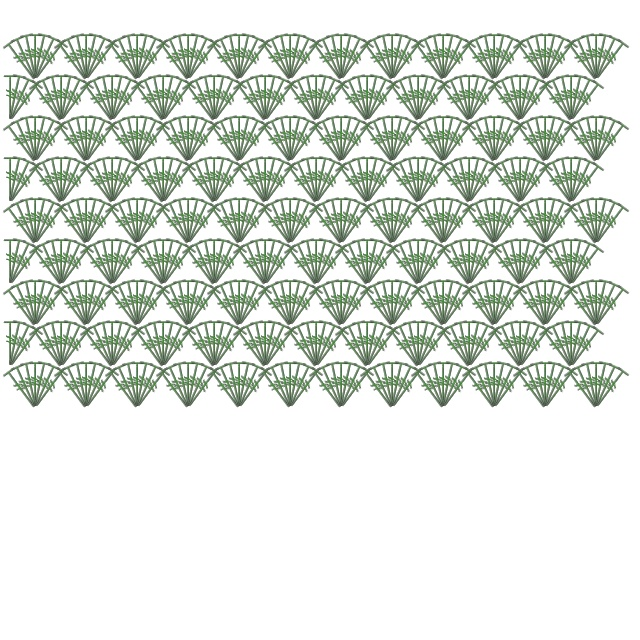fan: (2, 37, 43, 84), (29, 37, 70, 84), (53, 37, 94, 84), (80, 37, 121, 84), (104, 37, 145, 84), (131, 37, 172, 84), (155, 37, 196, 84), (182, 37, 223, 84), (206, 37, 247, 84), (233, 37, 274, 84), (257, 37, 298, 84), (284, 37, 325, 84), (308, 37, 349, 84), (335, 37, 376, 84), (359, 37, 400, 84), (386, 37, 427, 84), (410, 37, 451, 84), (437, 37, 478, 84), (461, 37, 502, 84), (488, 37, 529, 84), (512, 37, 553, 84), (539, 37, 580, 84), (563, 37, 604, 84), (590, 37, 631, 84), (4, 78, 45, 125), (28, 78, 69, 125), (55, 78, 96, 125), (79, 78, 120, 125), (106, 78, 147, 125), (130, 78, 171, 125), (157, 78, 198, 125), (181, 78, 222, 125), (208, 78, 249, 125), (232, 78, 273, 125), (259, 78, 300, 125), (283, 78, 324, 125), (310, 78, 351, 125), (334, 78, 375, 125), (361, 78, 402, 125), (385, 78, 426, 125), (412, 78, 453, 125), (436, 78, 477, 125), (463, 78, 504, 125), (487, 78, 528, 125), (514, 78, 555, 125), (538, 78, 579, 125), (565, 78, 606, 125), (2, 119, 43, 166), (29, 119, 70, 166), (53, 119, 94, 166), (80, 119, 121, 166), (104, 119, 145, 166), (131, 119, 172, 166), (155, 119, 196, 166), (182, 119, 223, 166), (206, 119, 247, 166), (233, 119, 274, 166), (257, 119, 298, 166), (284, 119, 325, 166), (308, 119, 349, 166), (335, 119, 376, 166), (359, 119, 400, 166), (386, 119, 427, 166), (410, 119, 451, 166), (437, 119, 478, 166), (461, 119, 502, 166), (488, 119, 529, 166), (512, 119, 553, 166), (539, 119, 580, 166), (563, 119, 604, 166), (590, 119, 631, 166), (4, 160, 45, 207), (28, 160, 69, 207), (55, 160, 96, 207), (79, 160, 120, 207), (106, 160, 147, 207), (130, 160, 171, 207), (157, 160, 198, 207), (181, 160, 222, 207), (208, 160, 249, 207), (232, 160, 273, 207), (259, 160, 300, 207), (283, 160, 324, 207), (310, 160, 351, 207), (334, 160, 375, 207), (361, 160, 402, 207), (385, 160, 426, 207), (412, 160, 453, 207), (436, 160, 477, 207), (463, 160, 504, 207), (487, 160, 528, 207), (514, 160, 555, 207), (538, 160, 579, 207), (565, 160, 606, 207), (2, 201, 43, 248), (29, 201, 70, 248), (53, 201, 94, 248), (80, 201, 121, 248), (104, 201, 145, 248), (131, 201, 172, 248), (155, 201, 196, 248), (182, 201, 223, 248), (206, 201, 247, 248), (233, 201, 274, 248), (257, 201, 298, 248), (284, 201, 325, 248), (308, 201, 349, 248), (335, 201, 376, 248), (359, 201, 400, 248), (386, 201, 427, 248), (410, 201, 451, 248), (437, 201, 478, 248), (461, 201, 502, 248), (488, 201, 529, 248), (512, 201, 553, 248), (539, 201, 580, 248), (563, 201, 604, 248), (590, 201, 631, 248), (4, 242, 45, 289), (28, 242, 69, 289), (55, 242, 96, 289), (79, 242, 120, 289), (106, 242, 147, 289), (130, 242, 171, 289), (157, 242, 198, 289), (181, 242, 222, 289), (208, 242, 249, 289), (232, 242, 273, 289), (259, 242, 300, 289), (283, 242, 324, 289), (310, 242, 351, 289), (334, 242, 375, 289), (361, 242, 402, 289), (385, 242, 426, 289), (412, 242, 453, 289), (436, 242, 477, 289), (463, 242, 504, 289), (487, 242, 528, 289), (514, 242, 555, 289), (538, 242, 579, 289), (565, 242, 606, 289), (2, 283, 43, 330), (29, 283, 70, 330), (53, 283, 94, 330), (80, 283, 121, 330), (104, 283, 145, 330), (131, 283, 172, 330), (155, 283, 196, 330), (182, 283, 223, 330), (206, 283, 247, 330), (233, 283, 274, 330), (257, 283, 298, 330), (284, 283, 325, 330), (308, 283, 349, 330), (335, 283, 376, 330), (359, 283, 400, 330), (386, 283, 427, 330), (410, 283, 451, 330), (437, 283, 478, 330), (461, 283, 502, 330), (488, 283, 529, 330), (512, 283, 553, 330), (539, 283, 580, 330), (563, 283, 604, 330), (590, 283, 631, 330), (4, 324, 45, 371), (28, 324, 69, 371), (55, 324, 96, 371), (79, 324, 120, 371), (106, 324, 147, 371), (130, 324, 171, 371), (157, 324, 198, 371), (181, 324, 222, 371), (208, 324, 249, 371), (232, 324, 273, 371), (259, 324, 300, 371), (283, 324, 324, 371), (310, 324, 351, 371), (334, 324, 375, 371), (361, 324, 402, 371), (385, 324, 426, 371), (412, 324, 453, 371), (436, 324, 477, 371), (463, 324, 504, 371), (487, 324, 528, 371), (514, 324, 555, 371), (538, 324, 579, 371), (565, 324, 606, 371), (2, 365, 43, 412), (29, 365, 70, 412), (53, 365, 94, 412), (80, 365, 121, 412), (104, 365, 145, 412), (131, 365, 172, 412), (155, 365, 196, 412), (182, 365, 223, 412), (206, 365, 247, 412), (233, 365, 274, 412), (257, 365, 298, 412), (284, 365, 325, 412), (308, 365, 349, 412), (335, 365, 376, 412), (359, 365, 400, 412), (386, 365, 427, 412), (410, 365, 451, 412), (437, 365, 478, 412), (461, 365, 502, 412), (488, 365, 529, 412), (512, 365, 553, 412), (539, 365, 580, 412), (563, 365, 604, 412), (590, 365, 631, 412), (9, 34, 44, 83), (28, 34, 63, 83), (60, 34, 95, 83), (79, 34, 114, 83), (111, 34, 146, 83), (130, 34, 165, 83), (162, 34, 197, 83), (181, 34, 216, 83), (213, 34, 248, 83), (232, 34, 267, 83), (264, 34, 299, 83), (283, 34, 318, 83), (315, 34, 350, 83), (334, 34, 369, 83), (366, 34, 401, 83), (385, 34, 420, 83), (417, 34, 452, 83), (436, 34, 471, 83), (468, 34, 503, 83), (487, 34, 522, 83), (519, 34, 554, 83), (538, 34, 573, 83), (570, 34, 605, 83), (589, 34, 624, 83), (3, 75, 38, 124), (35, 75, 70, 124), (54, 75, 89, 124), (86, 75, 121, 124), (105, 75, 140, 124), (137, 75, 172, 124), (156, 75, 191, 124), (188, 75, 223, 124), (207, 75, 242, 124), (239, 75, 274, 124), (258, 75, 293, 124), (290, 75, 325, 124), (309, 75, 344, 124), (341, 75, 376, 124), (360, 75, 395, 124), (392, 75, 427, 124), (411, 75, 446, 124), (443, 75, 478, 124), (462, 75, 497, 124), (494, 75, 529, 124), (513, 75, 548, 124), (545, 75, 580, 124), (564, 75, 599, 124), (9, 116, 44, 165), (28, 116, 63, 165), (60, 116, 95, 165), (79, 116, 114, 165), (111, 116, 146, 165), (130, 116, 165, 165), (162, 116, 197, 165), (181, 116, 216, 165), (213, 116, 248, 165), (232, 116, 267, 165), (264, 116, 299, 165), (283, 116, 318, 165), (315, 116, 350, 165), (334, 116, 369, 165), (366, 116, 401, 165), (385, 116, 420, 165), (417, 116, 452, 165), (436, 116, 471, 165), (468, 116, 503, 165), (487, 116, 522, 165), (519, 116, 554, 165), (538, 116, 573, 165), (570, 116, 605, 165), (589, 116, 624, 165), (3, 157, 38, 206), (35, 157, 70, 206), (54, 157, 89, 206), (86, 157, 121, 206), (105, 157, 140, 206), (137, 157, 172, 206), (156, 157, 191, 206), (188, 157, 223, 206), (207, 157, 242, 206), (239, 157, 274, 206), (258, 157, 293, 206), (290, 157, 325, 206), (309, 157, 344, 206), (341, 157, 376, 206), (360, 157, 395, 206), (392, 157, 427, 206), (411, 157, 446, 206), (443, 157, 478, 206), (462, 157, 497, 206), (494, 157, 529, 206), (513, 157, 548, 206), (545, 157, 580, 206), (564, 157, 599, 206), (9, 198, 44, 247), (28, 198, 63, 247), (60, 198, 95, 247), (79, 198, 114, 247), (111, 198, 146, 247), (130, 198, 165, 247), (162, 198, 197, 247), (181, 198, 216, 247), (213, 198, 248, 247), (232, 198, 267, 247), (264, 198, 299, 247), (283, 198, 318, 247), (315, 198, 350, 247), (334, 198, 369, 247), (366, 198, 401, 247), (385, 198, 420, 247), (417, 198, 452, 247), (436, 198, 471, 247), (468, 198, 503, 247), (487, 198, 522, 247), (519, 198, 554, 247), (538, 198, 573, 247), (570, 198, 605, 247), (589, 198, 624, 247), (3, 239, 38, 288), (35, 239, 70, 288), (54, 239, 89, 288), (86, 239, 121, 288), (105, 239, 140, 288), (137, 239, 172, 288), (156, 239, 191, 288), (188, 239, 223, 288), (207, 239, 242, 288), (239, 239, 274, 288), (258, 239, 293, 288), (290, 239, 325, 288), (309, 239, 344, 288), (341, 239, 376, 288), (360, 239, 395, 288), (392, 239, 427, 288), (411, 239, 446, 288), (443, 239, 478, 288), (462, 239, 497, 288), (494, 239, 529, 288), (513, 239, 548, 288), (545, 239, 580, 288), (564, 239, 599, 288), (9, 280, 44, 329), (28, 280, 63, 329), (60, 280, 95, 329), (79, 280, 114, 329), (111, 280, 146, 329), (130, 280, 165, 329), (162, 280, 197, 329), (181, 280, 216, 329), (213, 280, 248, 329), (232, 280, 267, 329), (264, 280, 299, 329), (283, 280, 318, 329), (315, 280, 350, 329), (334, 280, 369, 329), (366, 280, 401, 329), (385, 280, 420, 329), (417, 280, 452, 329), (436, 280, 471, 329), (468, 280, 503, 329), (487, 280, 522, 329), (519, 280, 554, 329), (538, 280, 573, 329), (570, 280, 605, 329), (589, 280, 624, 329), (3, 321, 38, 370), (35, 321, 70, 370), (54, 321, 89, 370), (86, 321, 121, 370), (105, 321, 140, 370), (137, 321, 172, 370), (156, 321, 191, 370), (188, 321, 223, 370), (207, 321, 242, 370), (239, 321, 274, 370), (258, 321, 293, 370), (290, 321, 325, 370), (309, 321, 344, 370), (341, 321, 376, 370), (360, 321, 395, 370), (392, 321, 427, 370), (411, 321, 446, 370), (443, 321, 478, 370), (462, 321, 497, 370), (494, 321, 529, 370), (513, 321, 548, 370), (545, 321, 580, 370), (564, 321, 599, 370), (9, 362, 44, 411), (28, 362, 63, 411), (60, 362, 95, 411), (79, 362, 114, 411), (111, 362, 146, 411), (130, 362, 165, 411), (162, 362, 197, 411), (181, 362, 216, 411), (213, 362, 248, 411), (232, 362, 267, 411), (264, 362, 299, 411), (283, 362, 318, 411), (315, 362, 350, 411), (334, 362, 369, 411), (366, 362, 401, 411), (385, 362, 420, 411), (417, 362, 452, 411), (436, 362, 471, 411), (468, 362, 503, 411), (487, 362, 522, 411), (519, 362, 554, 411), (538, 362, 573, 411), (570, 362, 605, 411), (589, 362, 624, 411), (18, 32, 44, 81), (28, 32, 54, 81), (69, 32, 95, 81), (79, 32, 105, 81), (120, 32, 146, 81), (130, 32, 156, 81), (171, 32, 197, 81), (181, 32, 207, 81), (222, 32, 248, 81), (232, 32, 258, 81), (273, 32, 299, 81), (283, 32, 309, 81), (324, 32, 350, 81), (334, 32, 360, 81), (375, 32, 401, 81), (385, 32, 411, 81), (426, 32, 452, 81), (436, 32, 462, 81), (477, 32, 503, 81), (487, 32, 513, 81), (528, 32, 554, 81), (538, 32, 564, 81), (579, 32, 605, 81), (589, 32, 615, 81), (3, 73, 29, 122), (44, 73, 70, 122), (54, 73, 80, 122), (95, 73, 121, 122), (105, 73, 131, 122), (146, 73, 172, 122), (156, 73, 182, 122), (197, 73, 223, 122), (207, 73, 233, 122), (248, 73, 274, 122), (258, 73, 284, 122), (299, 73, 325, 122), (309, 73, 335, 122), (350, 73, 376, 122), (360, 73, 386, 122), (401, 73, 427, 122), (411, 73, 437, 122), (452, 73, 478, 122), (462, 73, 488, 122), (503, 73, 529, 122), (513, 73, 539, 122), (554, 73, 580, 122), (564, 73, 590, 122), (18, 114, 44, 163), (28, 114, 54, 163), (69, 114, 95, 163), (79, 114, 105, 163), (120, 114, 146, 163), (130, 114, 156, 163), (171, 114, 197, 163), (181, 114, 207, 163), (222, 114, 248, 163), (232, 114, 258, 163), (273, 114, 299, 163), (283, 114, 309, 163), (324, 114, 350, 163), (334, 114, 360, 163), (375, 114, 401, 163), (385, 114, 411, 163), (426, 114, 452, 163), (436, 114, 462, 163), (477, 114, 503, 163), (487, 114, 513, 163), (528, 114, 554, 163), (538, 114, 564, 163), (579, 114, 605, 163), (589, 114, 615, 163), (3, 155, 29, 204), (44, 155, 70, 204), (54, 155, 80, 204), (95, 155, 121, 204), (105, 155, 131, 204), (146, 155, 172, 204), (156, 155, 182, 204), (197, 155, 223, 204), (207, 155, 233, 204), (248, 155, 274, 204), (258, 155, 284, 204), (299, 155, 325, 204), (309, 155, 335, 204), (350, 155, 376, 204), (360, 155, 386, 204), (401, 155, 427, 204), (411, 155, 437, 204), (452, 155, 478, 204), (462, 155, 488, 204), (503, 155, 529, 204), (513, 155, 539, 204), (554, 155, 580, 204), (564, 155, 590, 204), (18, 196, 44, 245), (28, 196, 54, 245), (69, 196, 95, 245), (79, 196, 105, 245), (120, 196, 146, 245), (130, 196, 156, 245), (171, 196, 197, 245), (181, 196, 207, 245), (222, 196, 248, 245), (232, 196, 258, 245), (273, 196, 299, 245), (283, 196, 309, 245), (324, 196, 350, 245), (334, 196, 360, 245), (375, 196, 401, 245), (385, 196, 411, 245), (426, 196, 452, 245), (436, 196, 462, 245), (477, 196, 503, 245), (487, 196, 513, 245), (528, 196, 554, 245), (538, 196, 564, 245), (579, 196, 605, 245), (589, 196, 615, 245), (3, 237, 29, 286), (44, 237, 70, 286), (54, 237, 80, 286), (95, 237, 121, 286), (105, 237, 131, 286), (146, 237, 172, 286), (156, 237, 182, 286), (197, 237, 223, 286), (207, 237, 233, 286), (248, 237, 274, 286), (258, 237, 284, 286), (299, 237, 325, 286), (309, 237, 335, 286), (350, 237, 376, 286), (360, 237, 386, 286), (401, 237, 427, 286), (411, 237, 437, 286), (452, 237, 478, 286), (462, 237, 488, 286), (503, 237, 529, 286), (513, 237, 539, 286), (554, 237, 580, 286), (564, 237, 590, 286), (18, 278, 44, 327), (28, 278, 54, 327), (69, 278, 95, 327), (79, 278, 105, 327), (120, 278, 146, 327), (130, 278, 156, 327), (171, 278, 197, 327), (181, 278, 207, 327), (222, 278, 248, 327), (232, 278, 258, 327), (273, 278, 299, 327), (283, 278, 309, 327), (324, 278, 350, 327), (334, 278, 360, 327), (375, 278, 401, 327), (385, 278, 411, 327), (426, 278, 452, 327), (436, 278, 462, 327), (477, 278, 503, 327), (487, 278, 513, 327), (528, 278, 554, 327), (538, 278, 564, 327), (579, 278, 605, 327), (589, 278, 615, 327), (3, 319, 29, 368), (44, 319, 70, 368), (54, 319, 80, 368), (95, 319, 121, 368), (105, 319, 131, 368), (146, 319, 172, 368), (156, 319, 182, 368), (197, 319, 223, 368), (207, 319, 233, 368), (248, 319, 274, 368), (258, 319, 284, 368), (299, 319, 325, 368), (309, 319, 335, 368), (350, 319, 376, 368), (360, 319, 386, 368), (401, 319, 427, 368), (411, 319, 437, 368), (452, 319, 478, 368), (462, 319, 488, 368), (503, 319, 529, 368), (513, 319, 539, 368), (554, 319, 580, 368), (564, 319, 590, 368), (18, 360, 44, 409), (28, 360, 54, 409), (69, 360, 95, 409), (79, 360, 105, 409), (120, 360, 146, 409), (130, 360, 156, 409), (171, 360, 197, 409), (181, 360, 207, 409), (222, 360, 248, 409), (232, 360, 258, 409), (273, 360, 299, 409), (283, 360, 309, 409), (324, 360, 350, 409), (334, 360, 360, 409), (375, 360, 401, 409), (385, 360, 411, 409), (426, 360, 452, 409), (436, 360, 462, 409), (477, 360, 503, 409), (487, 360, 513, 409), (528, 360, 554, 409), (538, 360, 564, 409), (579, 360, 605, 409), (589, 360, 615, 409), (78, 33, 96, 79), (180, 33, 198, 79), (282, 33, 300, 79), (384, 33, 402, 79), (486, 33, 504, 79), (588, 33, 606, 79), (2, 74, 20, 120), (104, 74, 122, 120), (206, 74, 224, 120), (308, 74, 326, 120), (410, 74, 428, 120), (512, 74, 530, 120), (78, 115, 96, 161), (180, 115, 198, 161), (282, 115, 300, 161), (384, 115, 402, 161), (486, 115, 504, 161), (588, 115, 606, 161), (2, 156, 20, 202), (104, 156, 122, 202), (206, 156, 224, 202), (308, 156, 326, 202), (410, 156, 428, 202), (512, 156, 530, 202), (78, 197, 96, 243), (180, 197, 198, 243), (282, 197, 300, 243), (384, 197, 402, 243), (486, 197, 504, 243), (588, 197, 606, 243), (2, 238, 20, 284), (104, 238, 122, 284), (206, 238, 224, 284), (308, 238, 326, 284), (410, 238, 428, 284), (512, 238, 530, 284), (78, 279, 96, 325), (180, 279, 198, 325), (282, 279, 300, 325), (384, 279, 402, 325), (486, 279, 504, 325), (588, 279, 606, 325), (2, 320, 20, 366), (104, 320, 122, 366), (206, 320, 224, 366), (308, 320, 326, 366), (410, 320, 428, 366), (512, 320, 530, 366), (78, 361, 96, 407), (180, 361, 198, 407), (282, 361, 300, 407), (384, 361, 402, 407), (486, 361, 504, 407), (588, 361, 606, 407), (28, 33, 44, 79), (130, 33, 146, 79), (232, 33, 248, 79), (334, 33, 350, 79), (436, 33, 452, 79), (538, 33, 554, 79), (54, 74, 70, 120), (156, 74, 172, 120), (258, 74, 274, 120), (360, 74, 376, 120), (462, 74, 478, 120), (564, 74, 580, 120), (28, 115, 44, 161), (130, 115, 146, 161), (232, 115, 248, 161), (334, 115, 350, 161), (436, 115, 452, 161), (538, 115, 554, 161), (54, 156, 70, 202), (156, 156, 172, 202), (258, 156, 274, 202), (360, 156, 376, 202), (462, 156, 478, 202), (564, 156, 580, 202), (28, 197, 44, 243), (130, 197, 146, 243), (232, 197, 248, 243), (334, 197, 350, 243), (436, 197, 452, 243), (538, 197, 554, 243), (54, 238, 70, 284), (156, 238, 172, 284), (258, 238, 274, 284), (360, 238, 376, 284), (462, 238, 478, 284), (564, 238, 580, 284), (28, 279, 44, 325), (130, 279, 146, 325), (232, 279, 248, 325), (334, 279, 350, 325), (436, 279, 452, 325), (538, 279, 554, 325), (54, 320, 70, 366), (156, 320, 172, 366), (258, 320, 274, 366), (360, 320, 376, 366), (462, 320, 478, 366), (564, 320, 580, 366), (28, 361, 44, 407), (130, 361, 146, 407), (232, 361, 248, 407), (334, 361, 350, 407), (436, 361, 452, 407), (538, 361, 554, 407)
